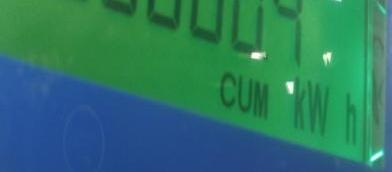.: (287, 75, 367, 151)
